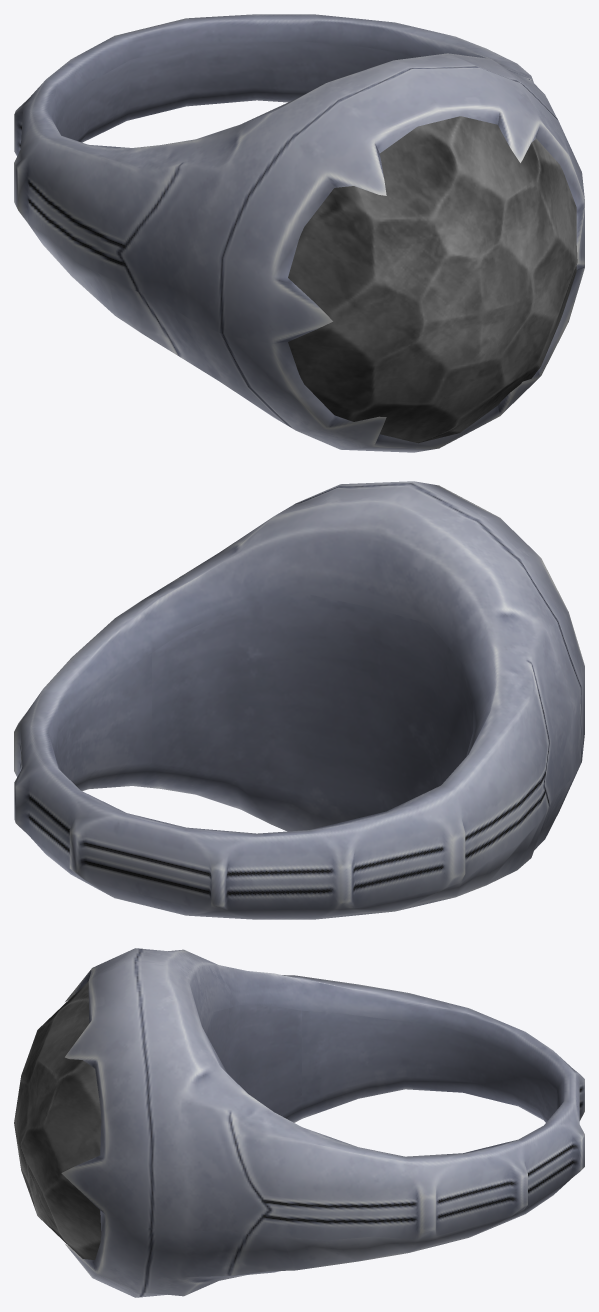
The model's file is Ring4.FBX.
3 views of the same model, one above another, from view 1: azimuth 30°, elevation 25°; view 2: azimuth 150°, elevation 25°; view 3: azimuth 270°, elevation 25° (orthographic). The views are drawn at different scales.
Parts seen in each view (by area): view 1: Ring4; view 2: Ring4; view 3: Ring4.
Part boxes in pixels (x1,y1,x2,y2): Ring4: (14,14,584,452); Ring4: (14,481,584,919); Ring4: (14,948,584,1297).
Bounding box in the file's own units: 0.021 × 0.0276 × 0.0172.
